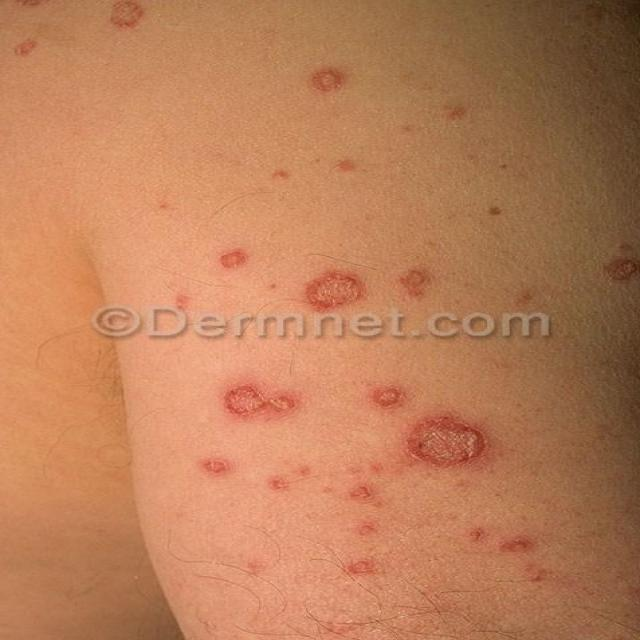Eczema: (79, 4, 640, 601)
